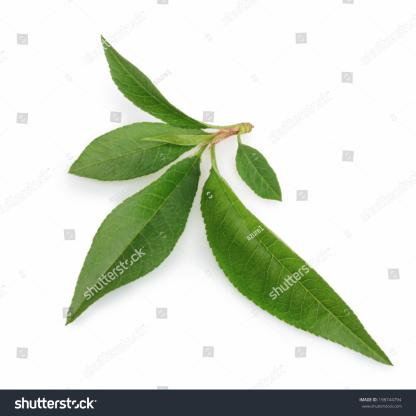Peach leaf: (201, 161, 392, 365), (61, 157, 200, 329), (96, 34, 213, 128), (60, 122, 201, 185), (236, 142, 286, 207)
